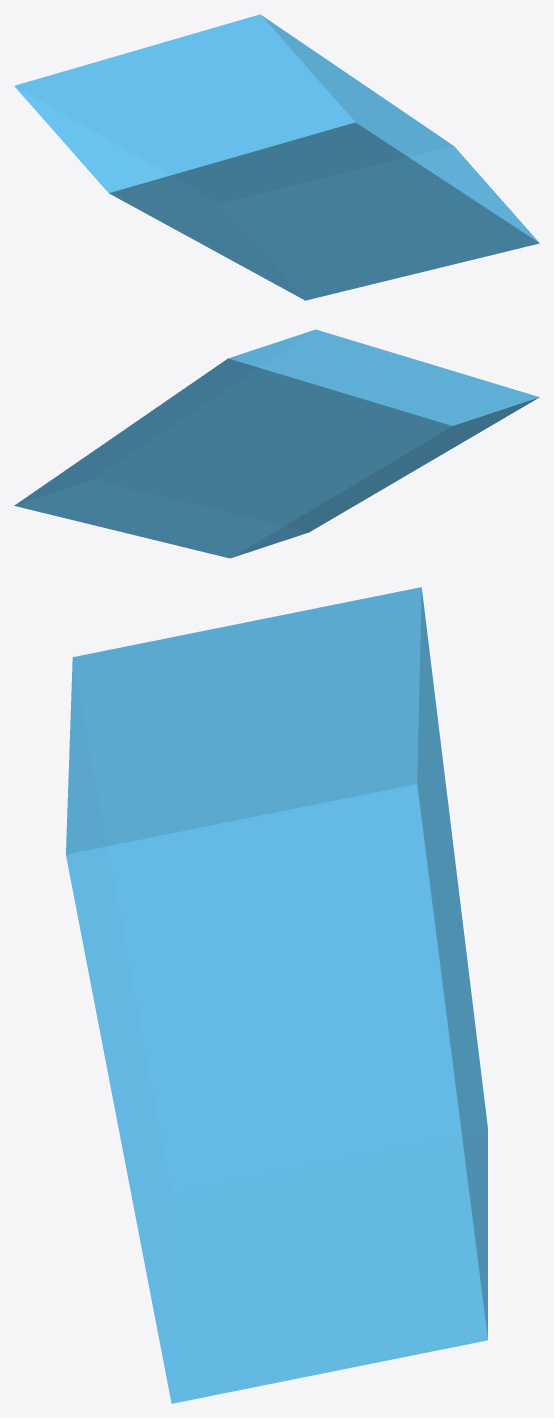
The model's file is Event_420604493_HBrechit_19.fbx.
The picture shows the model from 3 angles, top to bottom: view 1: azimuth 30°, elevation 25°; view 2: azimuth 150°, elevation 25°; view 3: azimuth 270°, elevation 25°; orthographic projection. The views are drawn at different scales.
Parts seen in each view (by area): view 1: Model; view 2: Model; view 3: Model.
Boxes of the visible parts, bbox=[...] form: Model: bbox=[14, 14, 539, 300]; Model: bbox=[14, 329, 539, 558]; Model: bbox=[66, 587, 487, 1403].
Bounding box in the file's own units: 1.21 × 0.5854 × 0.5232.
